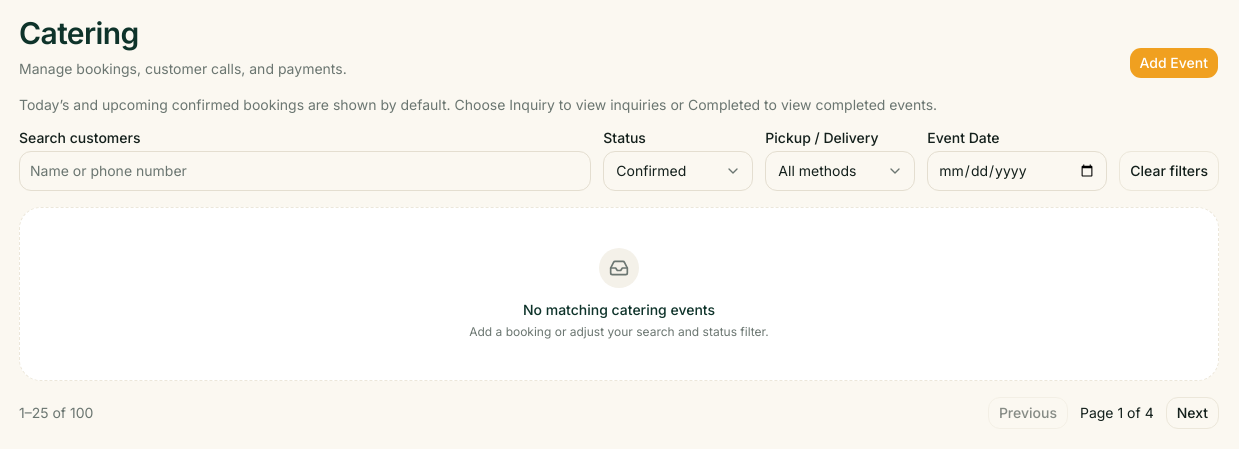
Test: clears search, status, date, method and pagination to default
Select "All statuses" in the dropdown labelled "Status". click: (678, 170)
box: 603,150 -> 753,190
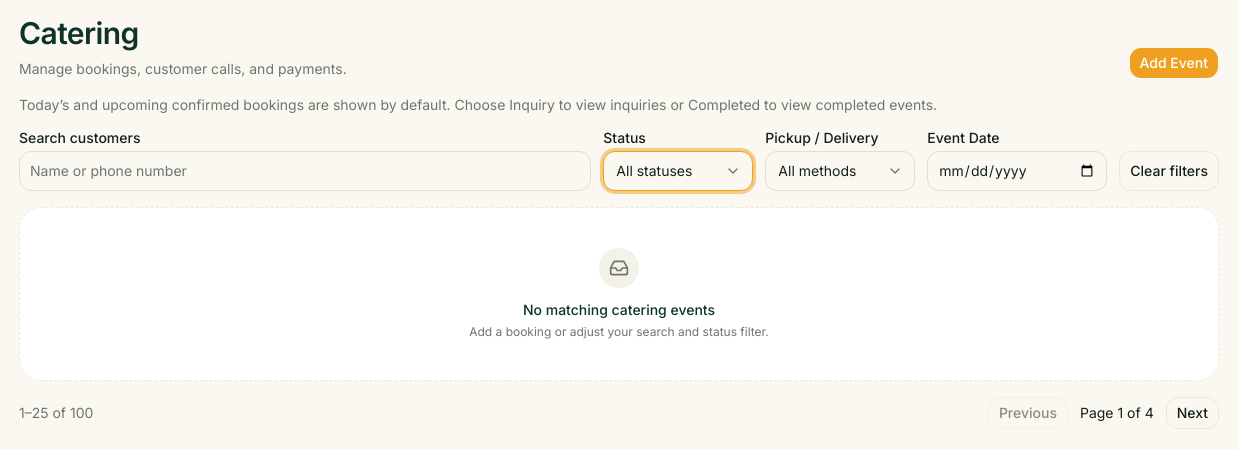
Select "Delivery" in the dropdown labelled "Pickup / Delivery". click: (840, 170)
box: 765,150 -> 915,190
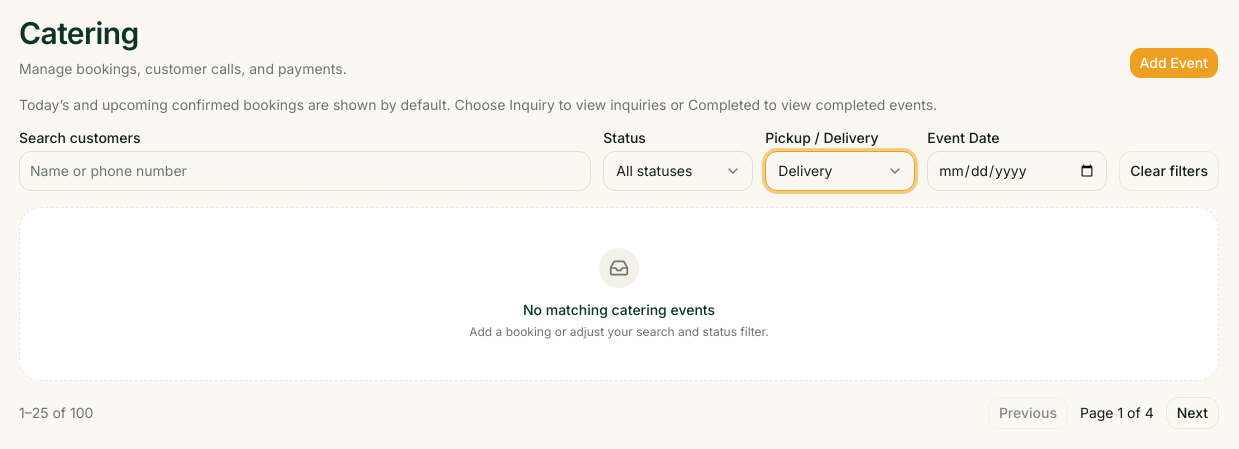
Type "2029-05-03" into the date field labelled "Event Date". click: (1017, 170)
box: 927,150 -> 1107,190
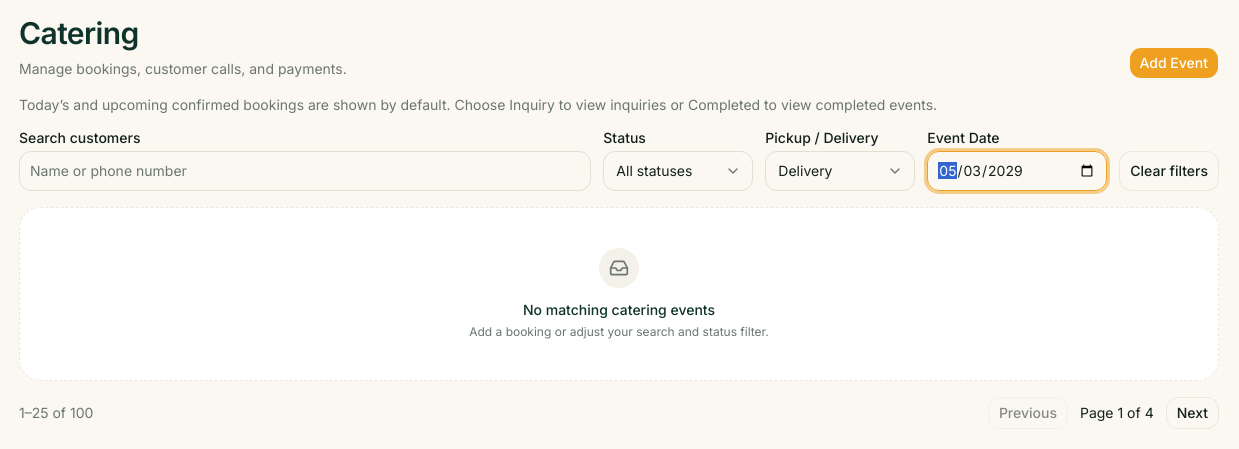
Type "Nisha" into the search field labelled "Search customers". click: (305, 170)
box: 19,150 -> 591,190
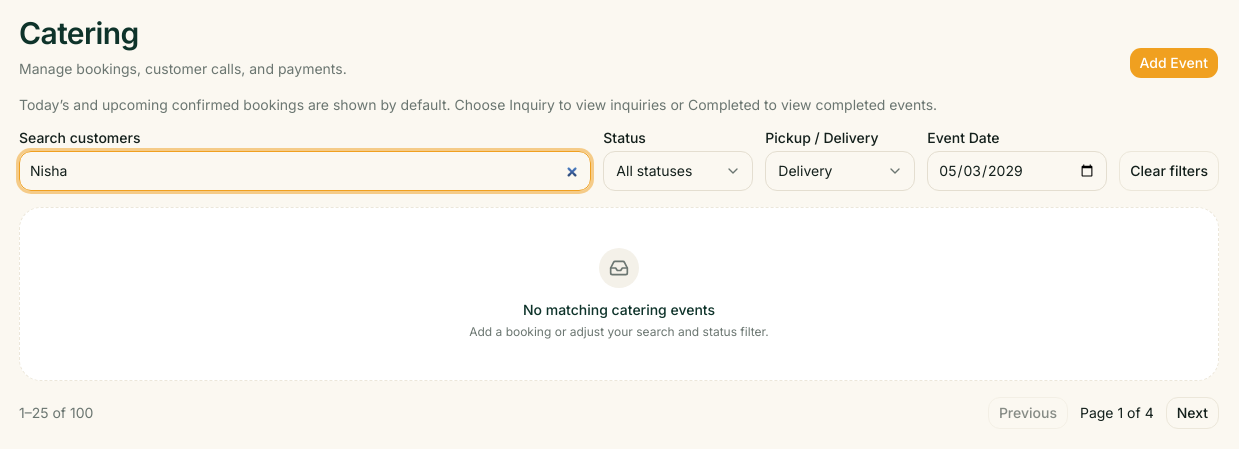
Click the button "Next". click: (1192, 412)
box: 1166,396 -> 1219,428
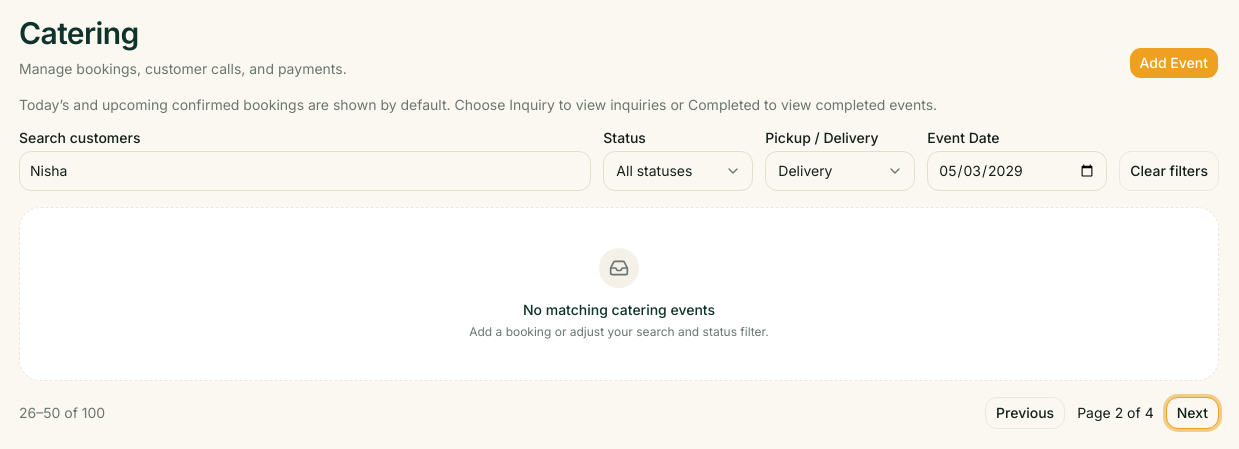
Click the button "Clear filters". click: (1169, 170)
box: 1119,150 -> 1219,190
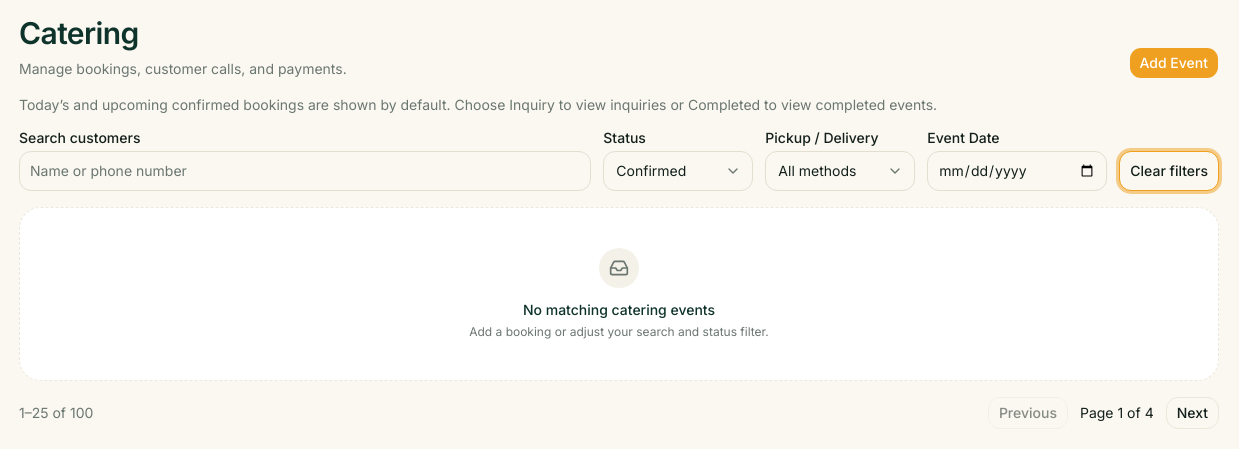
Check: the search field labelled "Search customers" is empty, box 19,150 -> 591,190
Check: the date field labelled "Event Date" is empty, box 927,150 -> 1107,190
